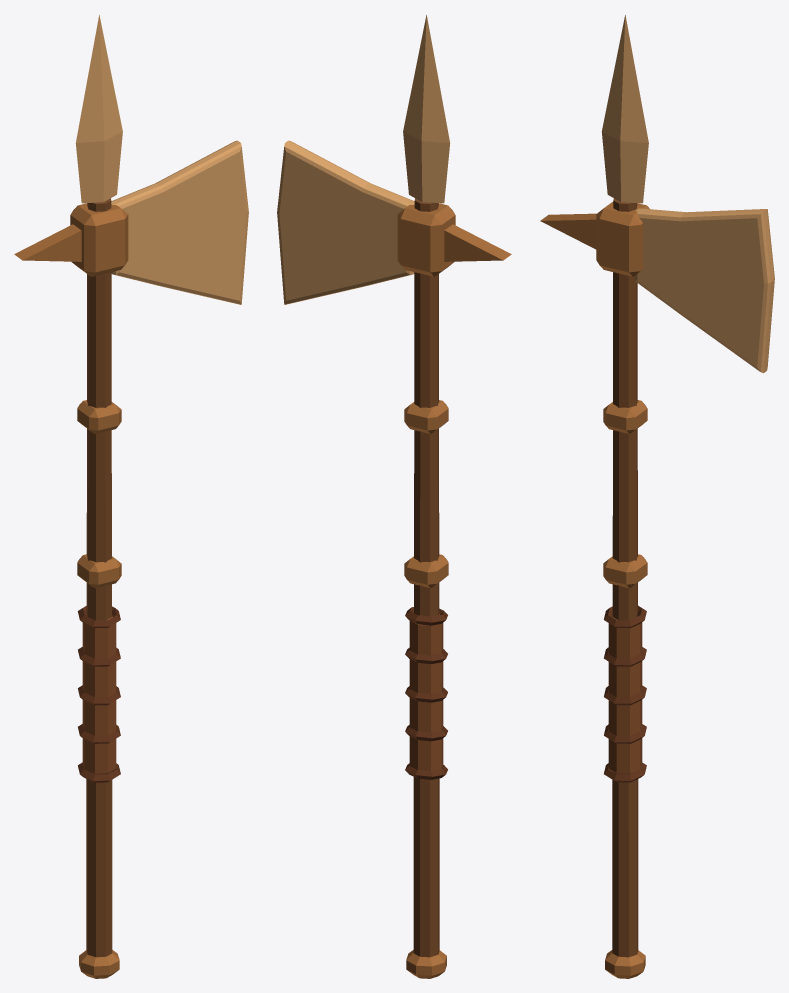
File: WoodHalberd.fbx
The picture shows the model from 3 angles, left to right: view 1: azimuth 30°, elevation 25°; view 2: azimuth 150°, elevation 25°; view 3: azimuth 330°, elevation 25°; orthographic projection.
Visible parts, largest first — view 1: WoodHalberd; view 2: WoodHalberd; view 3: WoodHalberd.
Boxes of the visible parts, left/top/right/bottom form: WoodHalberd: left=14, top=15, right=248, bottom=978; WoodHalberd: left=277, top=15, right=511, bottom=978; WoodHalberd: left=540, top=15, right=774, bottom=978.
Size of the model in its own units: 1.55 by 6.22 by 0.2614.
Materials: 1 (1 with a texture image).
